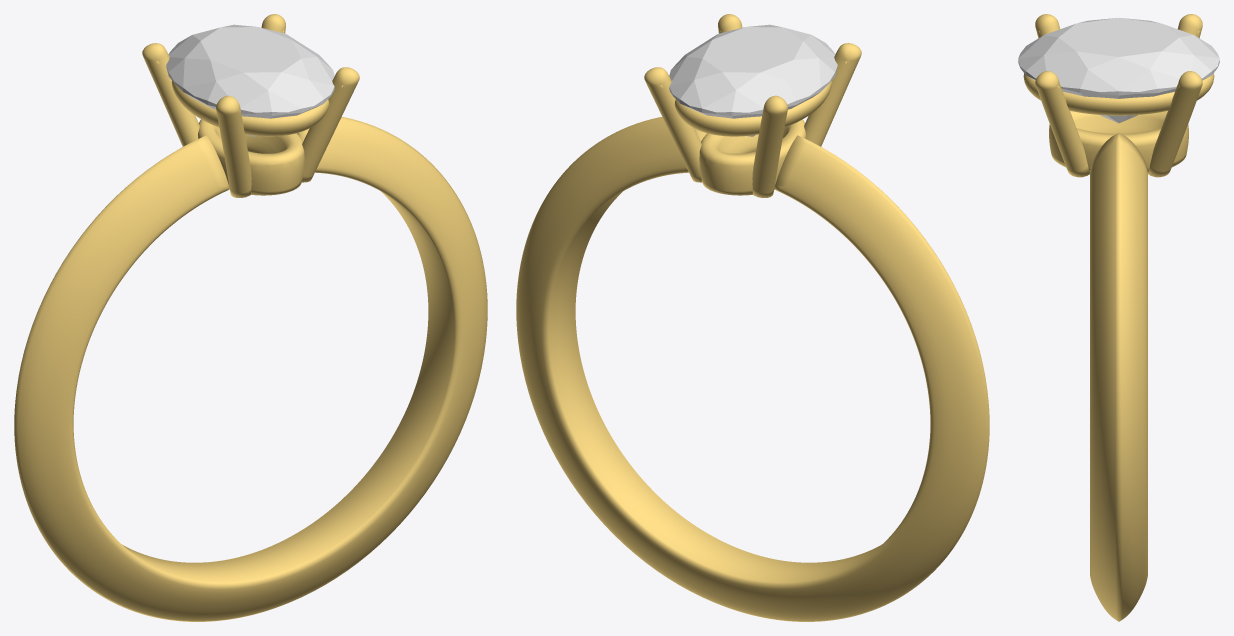
Rendered from diamond-oval-yellowgold-4prong-knifeedge-nosidestones.glb.
3 views of the same model, side by side, from view 1: azimuth 30°, elevation 25°; view 2: azimuth 150°, elevation 25°; view 3: azimuth 270°, elevation 25° (orthographic).
Visible parts, largest first — view 1: metal, stone; view 2: metal, stone; view 3: metal, stone.
Part boxes in pixels (x1=…): metal: x1=14, y1=14, x2=487, y2=621; stone: x1=166, y1=24, x2=334, y2=136; metal: x1=516, y1=14, x2=989, y2=621; stone: x1=669, y1=24, x2=837, y2=136; metal: x1=1023, y1=14, x2=1214, y2=621; stone: x1=1018, y1=18, x2=1219, y2=123.
Bounding box in the file's own units: 20.51 × 23.4 × 7.64.
